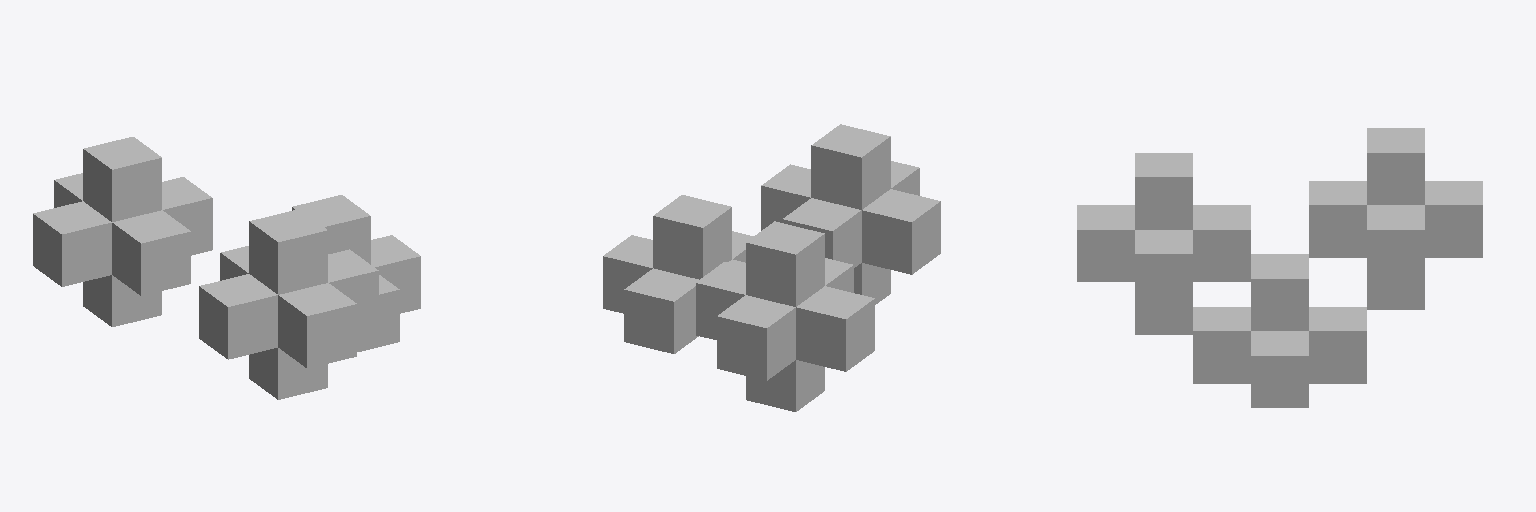
The model's file is nightBerries1-0.obj.
3 views of the same model, side by side, from view 1: azimuth 30°, elevation 25°; view 2: azimuth 150°, elevation 25°; view 3: azimuth 270°, elevation 25° (orthographic).
Visible parts, largest first — view 1: object 1; view 2: object 1; view 3: object 1.
Part boxes in pixels (x1,y1,x2,y2): object 1: (33,137,420,399); object 1: (603,124,940,411); object 1: (1077,128,1482,407).
Bounding box in the file's own units: 0.6 × 0.3 × 0.7.